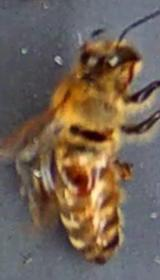varroa_mite: (64, 168, 95, 196)
